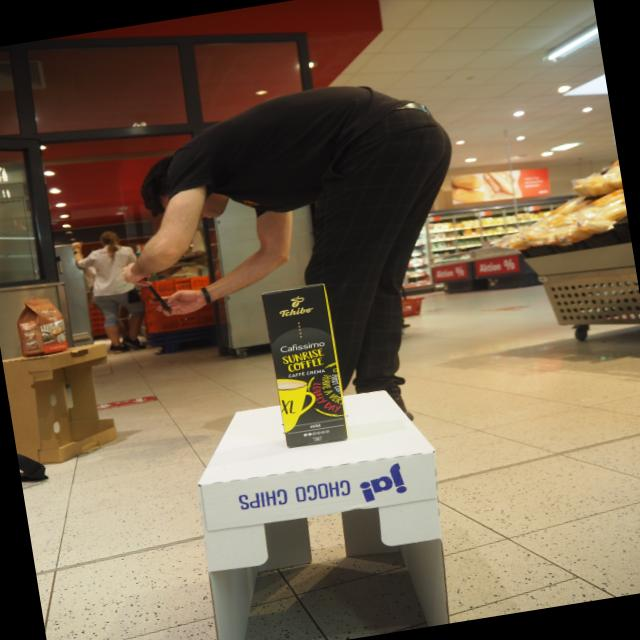Simo Sunrise: (261, 284, 349, 450)
